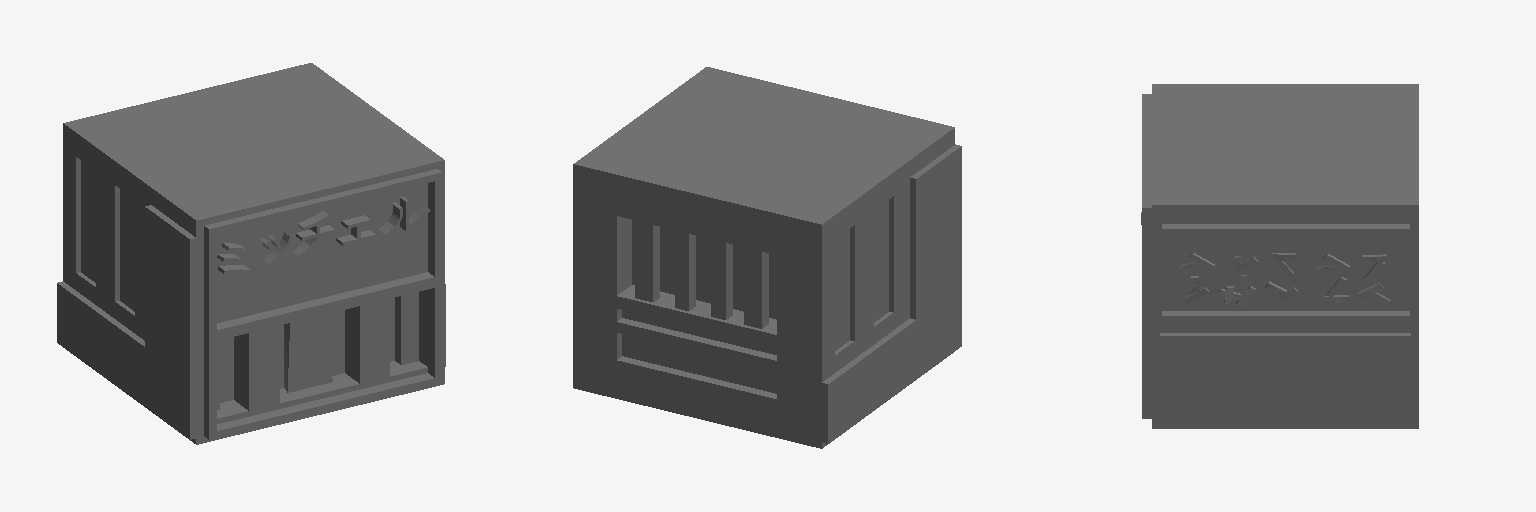
The model's file is UpdatedBuilding2.obj.
The picture shows the model from 3 angles: view 1: azimuth 30°, elevation 25°; view 2: azimuth 150°, elevation 25°; view 3: azimuth 270°, elevation 25°; orthographic projection.
Parts seen in each view (by area): view 1: polySurface500, polySurface497, polySurface455, polySurface453, polySurface454, polySurface450; view 2: polySurface500, polySurface453, polySurface455; view 3: polySurface500, polySurface499, polySurface498.
Part boxes in pixels (left/top/right/bottom): polySurface500: left=57, top=63, right=445, bottom=444; polySurface497: left=217, top=183, right=427, bottom=322; polySurface455: left=120, top=189, right=134, bottom=311; polySurface453: left=81, top=161, right=95, bottom=282; polySurface454: left=220, top=337, right=233, bottom=402; polySurface450: left=330, top=310, right=344, bottom=375; polySurface500: left=573, top=67, right=961, bottom=448; polySurface453: left=835, top=229, right=849, bottom=350; polySurface455: left=874, top=200, right=888, bottom=321; polySurface500: left=1142, top=84, right=1418, bottom=428; polySurface499: left=1162, top=249, right=1409, bottom=310; polySurface498: left=1162, top=215, right=1409, bottom=223.
Size of the model in its own units: 1.23 by 1.01 by 1.14.